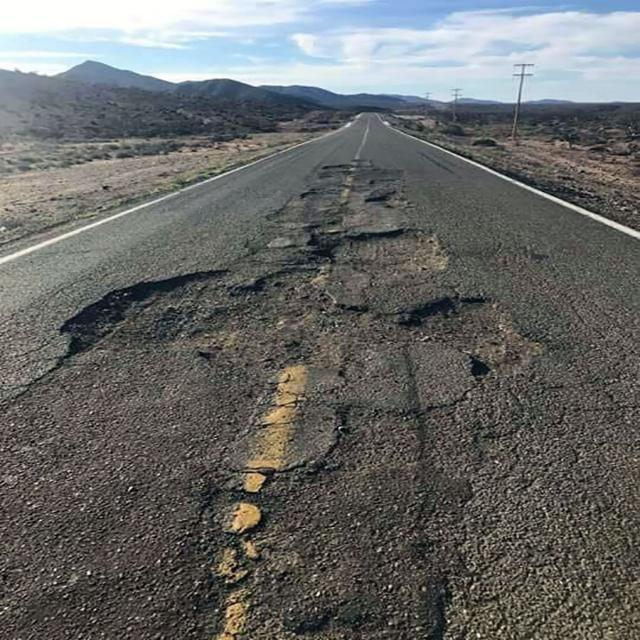pothole: (61, 151, 441, 409), (313, 273, 537, 446)
